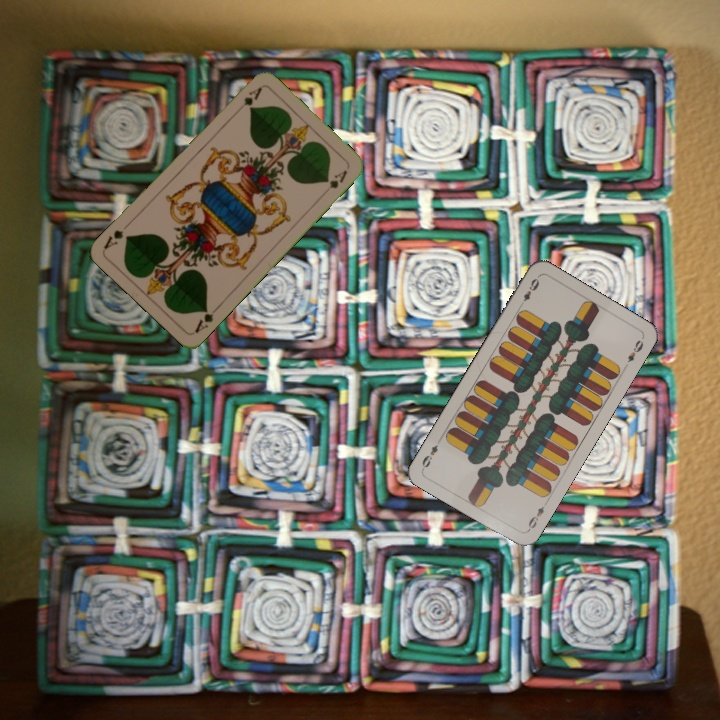E9: (523, 497, 550, 534), (516, 272, 542, 310)
GA: (232, 83, 265, 116), (190, 302, 222, 336)
